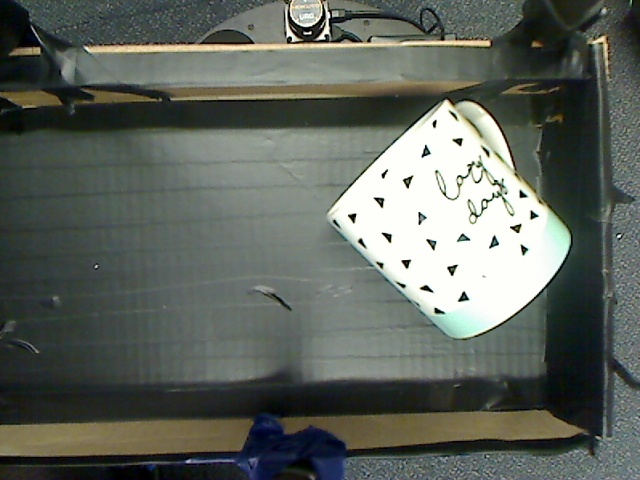mug: (316, 94, 581, 346)
